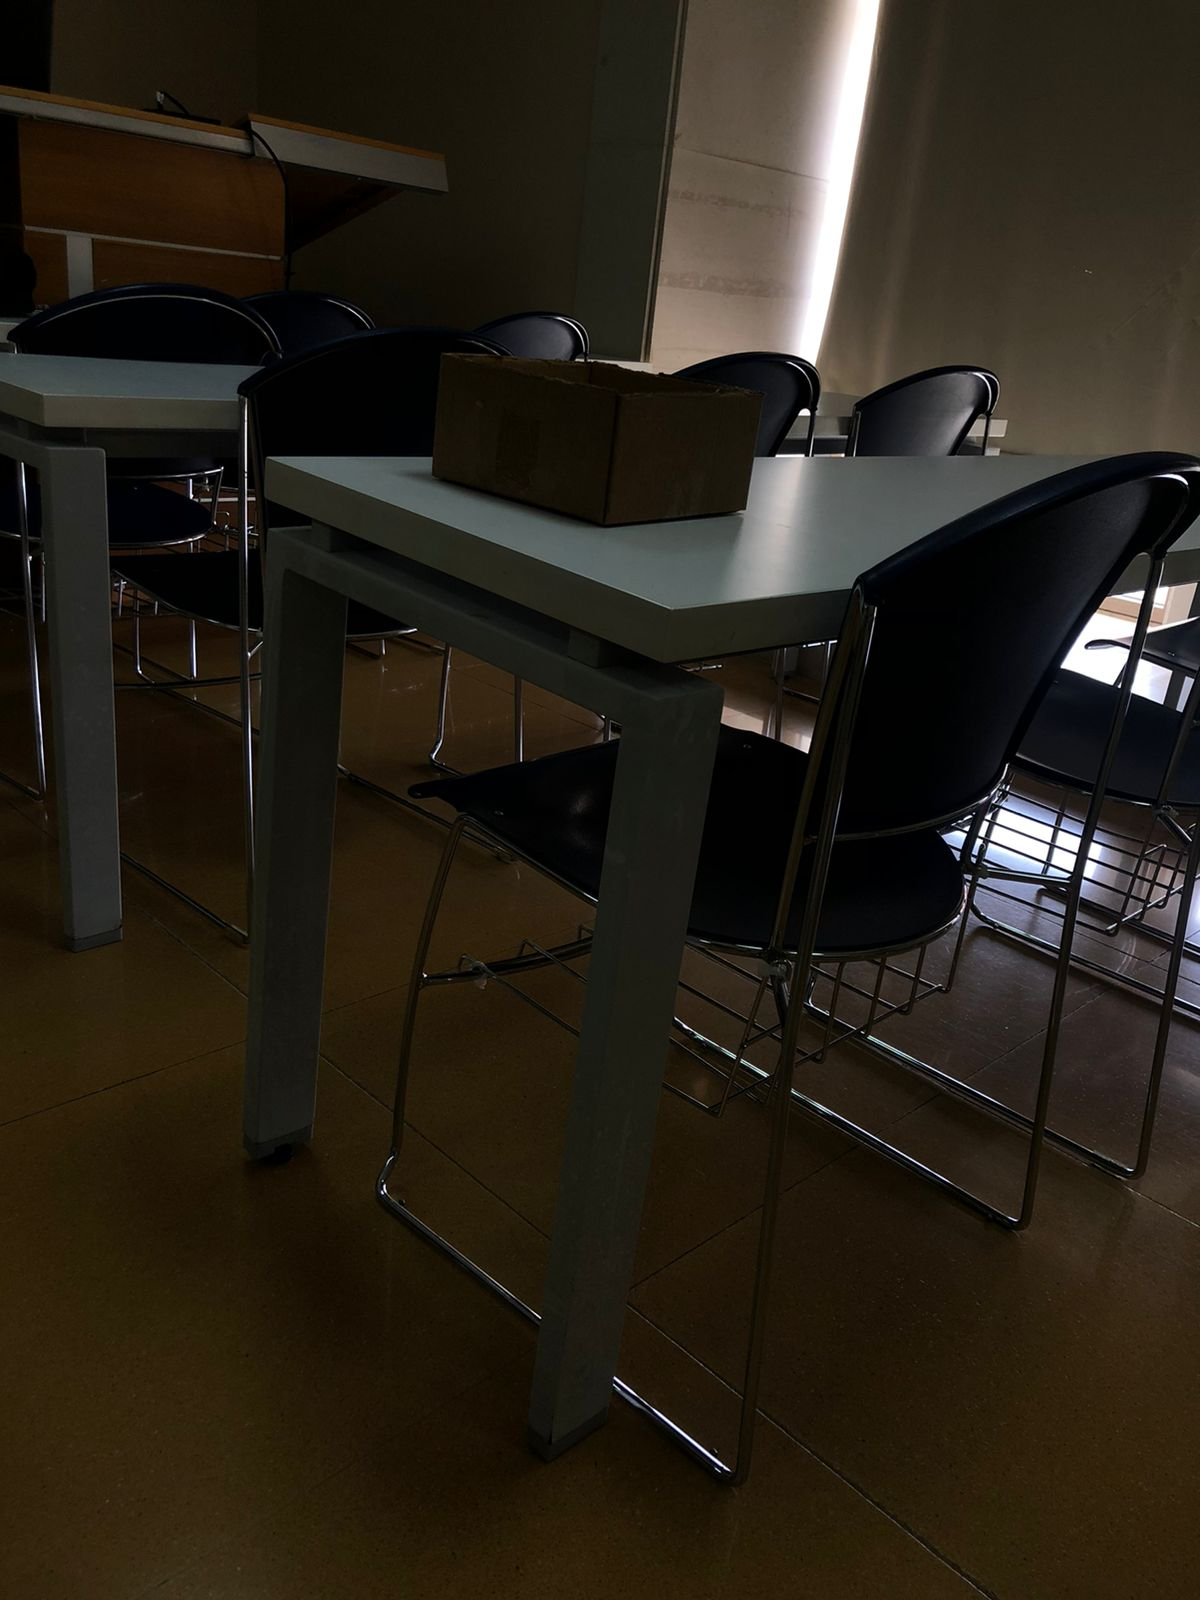CBox: (429, 343, 778, 543)
